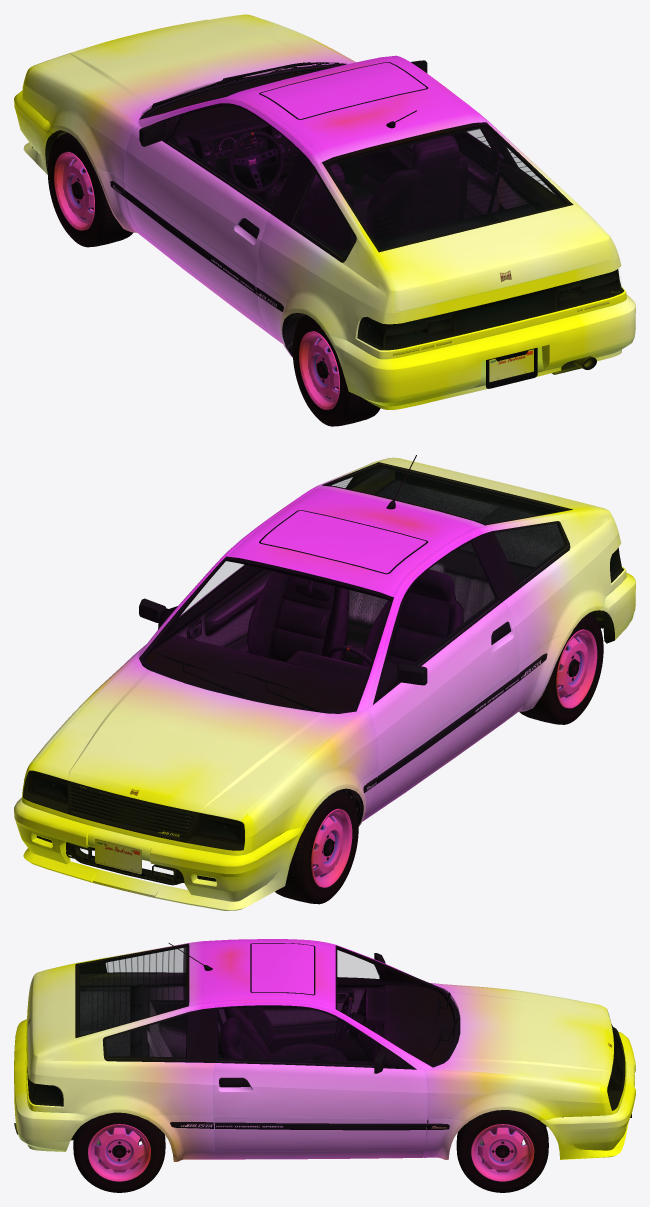
File: blista3.glb
The picture shows the model from 3 angles, top to bottom: view 1: azimuth 30°, elevation 25°; view 2: azimuth 150°, elevation 25°; view 3: azimuth 270°, elevation 25°; orthographic projection. The views are drawn at different scales.
Visible parts, largest first — view 1: bodyshell, windscreen_r, door_dside_f, boot, bonnet, bumper_r, chassis, misc_b, window_lf, wing_lf, wheel_lf, wheel_lr (+5 smaller); view 2: bodyshell, bonnet, door_dside_f, chassis, bumper_f, misc_b, extra_2, wing_lf, window_lf, wheel_lf, door_pside_f, windscreen_r (+5 smaller); view 3: bodyshell, door_pside_f, bonnet, chassis, wing_rf, window_rf, windscreen_r, wheel_rf, wheel_rr, extra_2, boot, door_dside_f (+6 smaller).
Boxes of the visible parts, <box> form: bodyshell: <box>22,55,626,359</box>; windscreen_r: <box>326,125,566,249</box>; door_dside_f: <box>124,100,302,325</box>; boot: <box>319,122,614,311</box>; bonnet: <box>33,14,352,121</box>; bumper_r: <box>324,294,635,409</box>; chassis: <box>144,62,609,357</box>; misc_b: <box>296,135,468,250</box>; window_lf: <box>169,106,298,208</box>; wing_lf: <box>23,66,144,238</box>; wheel_lf: <box>47,132,133,247</box>; wheel_lr: <box>292,315,380,426</box>; bodyshell: <box>22,455,626,855</box>; bonnet: <box>32,656,360,821</box>; door_dside_f: <box>368,536,519,810</box>; chassis: <box>66,467,604,885</box>; bumper_f: <box>14,797,305,910</box>; misc_b: <box>247,569,463,667</box>; extra_2: <box>261,481,564,573</box>; wing_lf: <box>247,709,378,851</box>; window_lf: <box>388,542,498,664</box>; wheel_lf: <box>275,790,358,904</box>; door_pside_f: <box>135,537,273,654</box>; windscreen_r: <box>328,465,564,523</box>; bodyshell: <box>25,939,626,1161</box>; door_pside_f: <box>213,1003,427,1151</box>; bonnet: <box>430,983,613,1088</box>; chassis: <box>26,946,623,1127</box>; wing_rf: <box>423,1069,605,1159</box>; window_rf: <box>218,1007,377,1064</box>; windscreen_r: <box>78,945,186,1036</box>; wheel_rf: <box>456,1110,548,1192</box>; wheel_rr: <box>73,1112,165,1192</box>; extra_2: <box>79,943,313,1056</box>; boot: <box>27,943,189,1070</box>; door_dside_f: <box>218,949,418,1061</box>.
Bounding box in the file's own units: 1.86 × 1.61 × 4.48.
18 materials, 18 textured.
